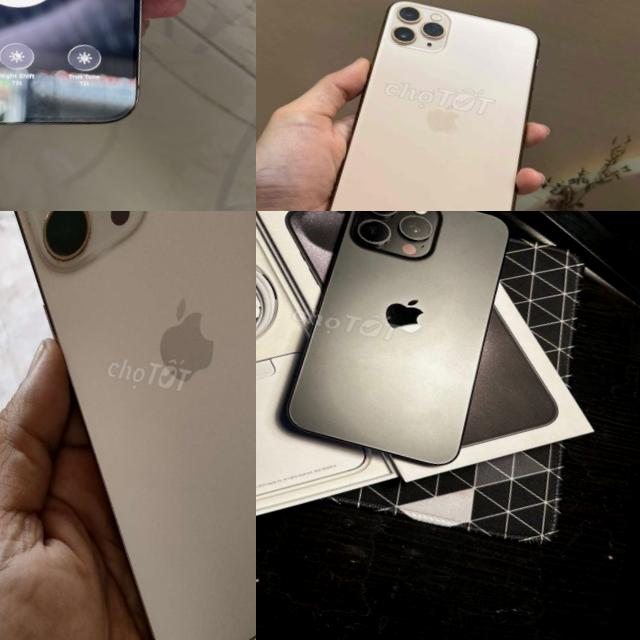scratch: (43, 263, 73, 287), (21, 212, 38, 234)
